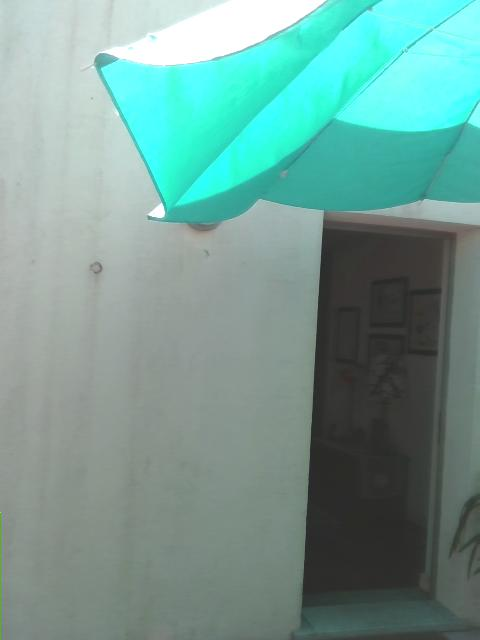open_door: (297, 208, 479, 639)
